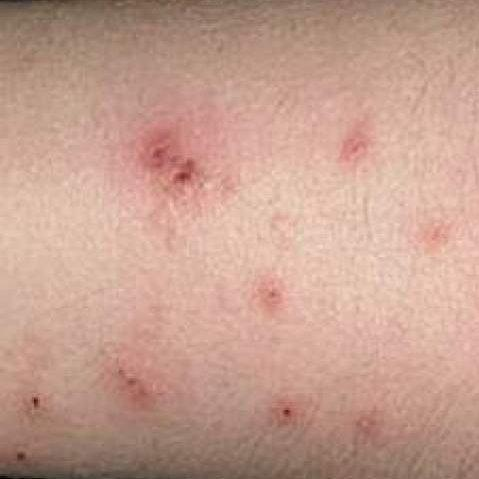Fleas: (122, 116, 222, 227), (91, 345, 195, 430), (243, 270, 296, 326), (408, 209, 456, 256), (332, 123, 374, 172), (353, 414, 390, 446), (266, 397, 305, 425), (12, 385, 44, 412)
